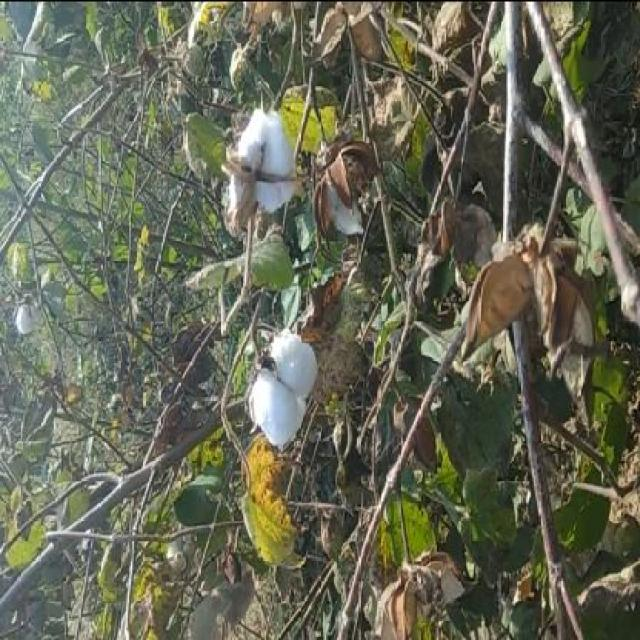cotton_ready: (215, 88, 298, 266), (238, 307, 324, 441)
